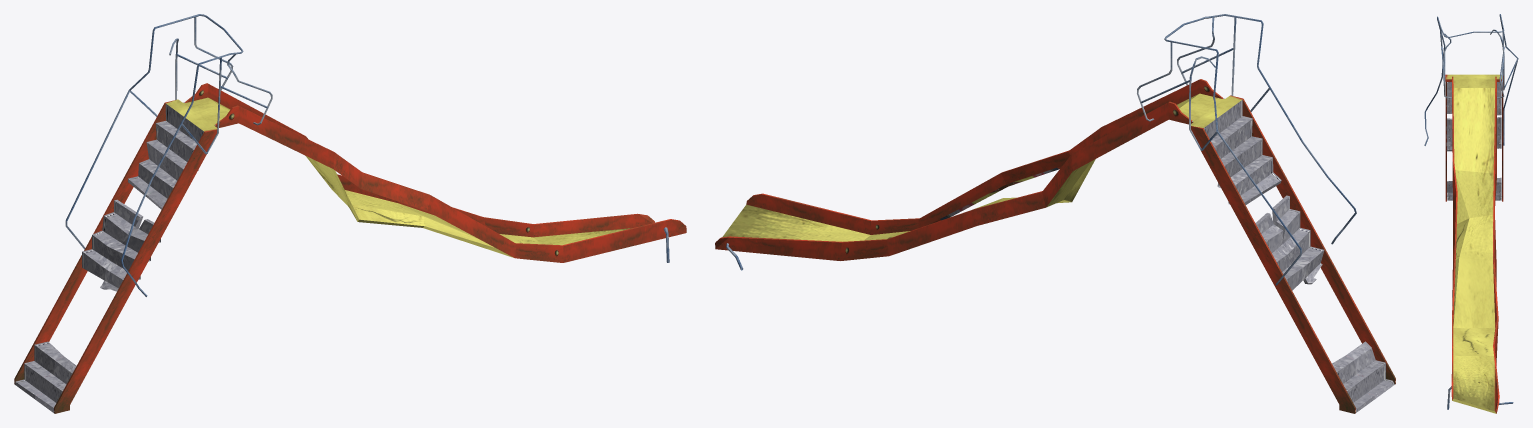
The model's file is Model_Slide_01.fbx.
3 renders of one model, left to right at view 1: azimuth 30°, elevation 25°; view 2: azimuth 150°, elevation 25°; view 3: azimuth 270°, elevation 25°, orthographic. The views are drawn at different scales.
Visible parts, largest first — view 1: Slide1; view 2: Slide1; view 3: Slide1.
Boxes of the visible parts, left/top/right/bottom form: Slide1: left=14, top=14, right=686, bottom=413; Slide1: left=715, top=14, right=1395, bottom=413; Slide1: left=1424, top=14, right=1518, bottom=413.
Size of the model in its own units: 919 by 448 by 166.
